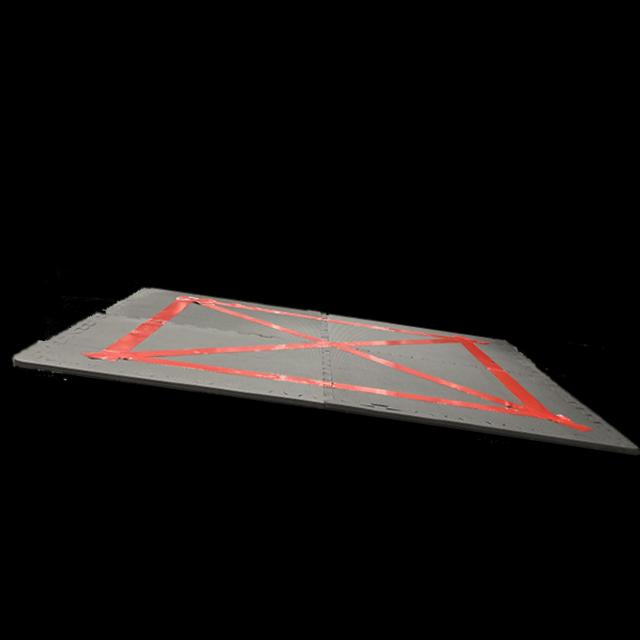landingPads: (8, 263, 636, 441)
